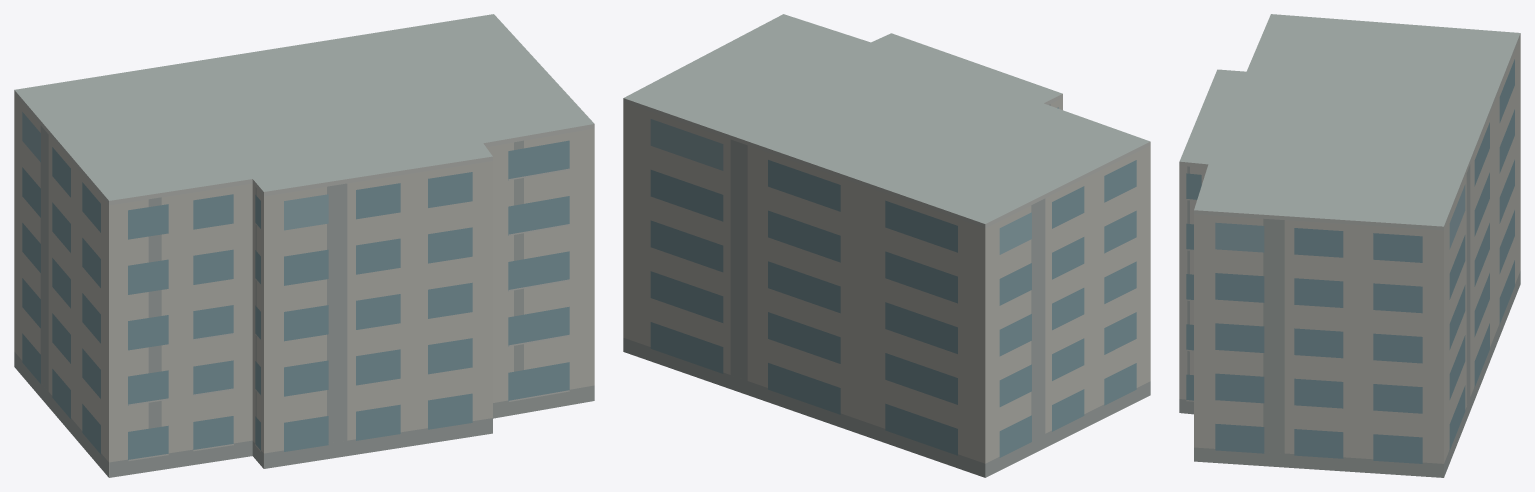
File: survey-upis-32477052.glb
The picture shows the model from 3 angles, left to right: view 1: azimuth 30°, elevation 25°; view 2: azimuth 150°, elevation 25°; view 3: azimuth 270°, elevation 25°; orthographic projection. The views are drawn at different scales.
Visible parts, largest first — view 1: survey-upis-32477052.tmp; view 2: survey-upis-32477052.tmp; view 3: survey-upis-32477052.tmp.
Part boxes in pixels (bbox=[...]): survey-upis-32477052.tmp: bbox=[14, 14, 594, 477]; survey-upis-32477052.tmp: bbox=[623, 14, 1150, 477]; survey-upis-32477052.tmp: bbox=[1179, 14, 1520, 477].
Size of the model in its own units: 27.77 by 15.3 by 18.83.
